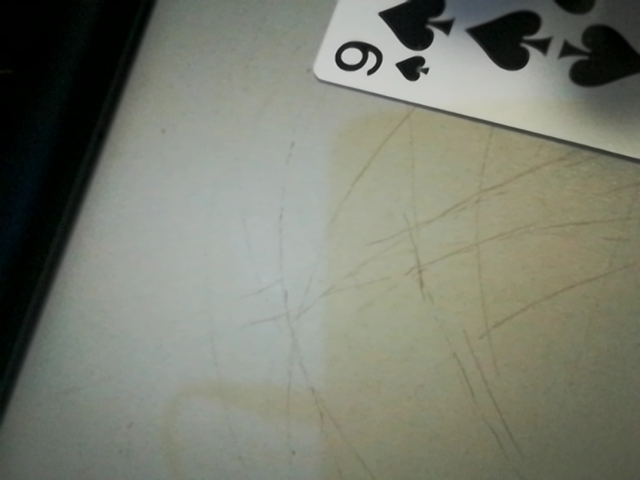ht 9: (313, 17, 451, 99)
